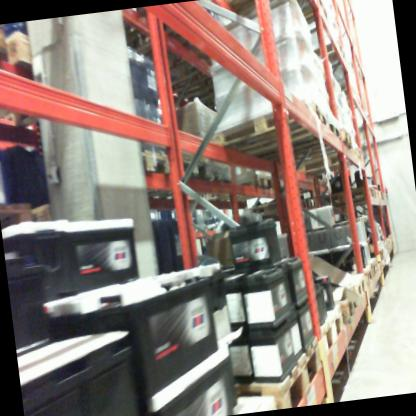pallet: (206, 84, 332, 164), (228, 329, 341, 411), (279, 140, 379, 206), (194, 0, 336, 45), (240, 117, 344, 163), (258, 121, 357, 163), (303, 301, 352, 360), (124, 131, 177, 185), (310, 270, 369, 313), (307, 29, 354, 77), (165, 139, 211, 186), (230, 154, 274, 195), (204, 145, 243, 188), (334, 285, 365, 326), (343, 258, 375, 287), (369, 258, 382, 276), (375, 188, 388, 205), (380, 253, 390, 269), (386, 235, 392, 247)
